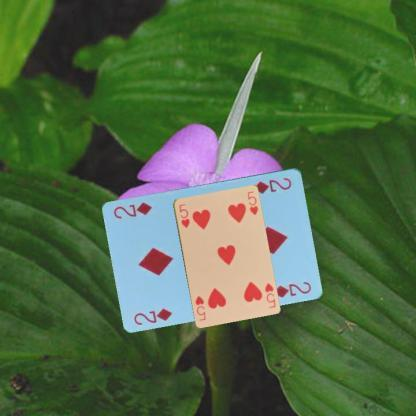2d: (131, 305, 173, 326), (251, 174, 293, 194)
5h: (262, 280, 277, 309), (176, 201, 191, 229)
